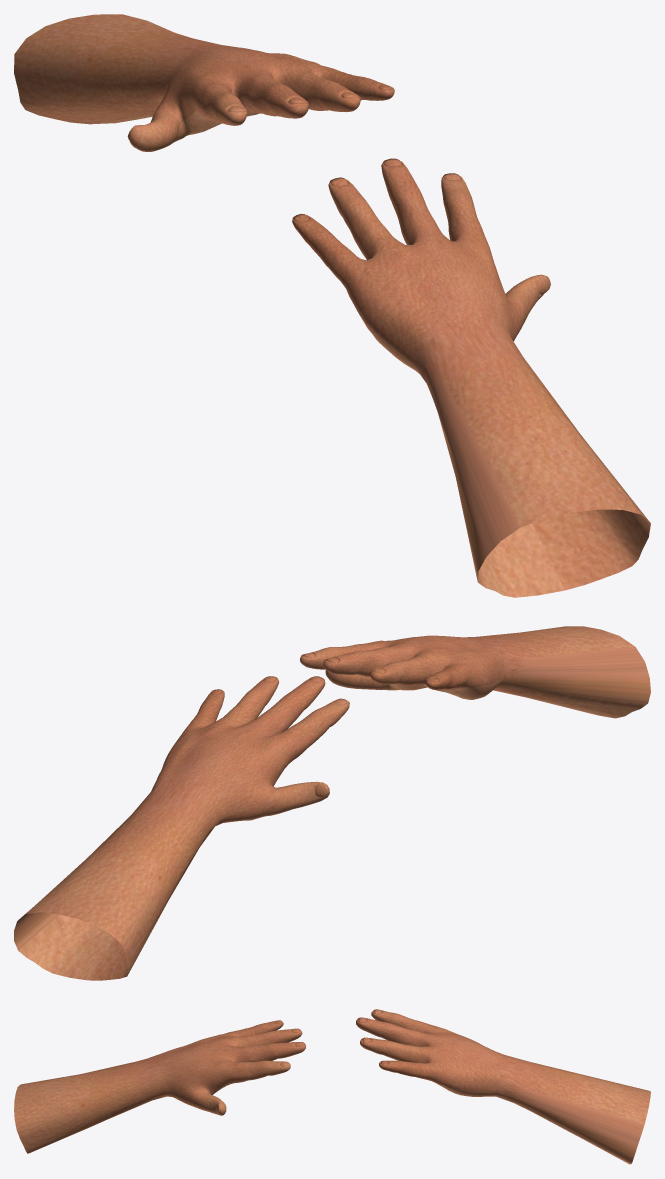
File: hands_000034.obj
3 renders of one model, top to bottom at view 1: azimuth 30°, elevation 25°; view 2: azimuth 150°, elevation 25°; view 3: azimuth 270°, elevation 25°, orthographic. The views are drawn at different scales.
Visible parts, largest first — view 1: hand.001_Mesh.001, hand_Mesh; view 2: hand_Mesh, hand.001_Mesh.001; view 3: hand_Mesh, hand.001_Mesh.001.
Part boxes in pixels (bbox=[...]): hand.001_Mesh.001: bbox=[292, 158, 650, 597]; hand_Mesh: bbox=[14, 14, 394, 151]; hand_Mesh: bbox=[14, 676, 349, 980]; hand.001_Mesh.001: bbox=[300, 626, 650, 718]; hand_Mesh: bbox=[356, 1009, 650, 1164]; hand.001_Mesh.001: bbox=[14, 1020, 305, 1153].
Size of the model in its own units: 1.7 by 1.56 by 6.58.
Materials: 1 (1 with a texture image).
